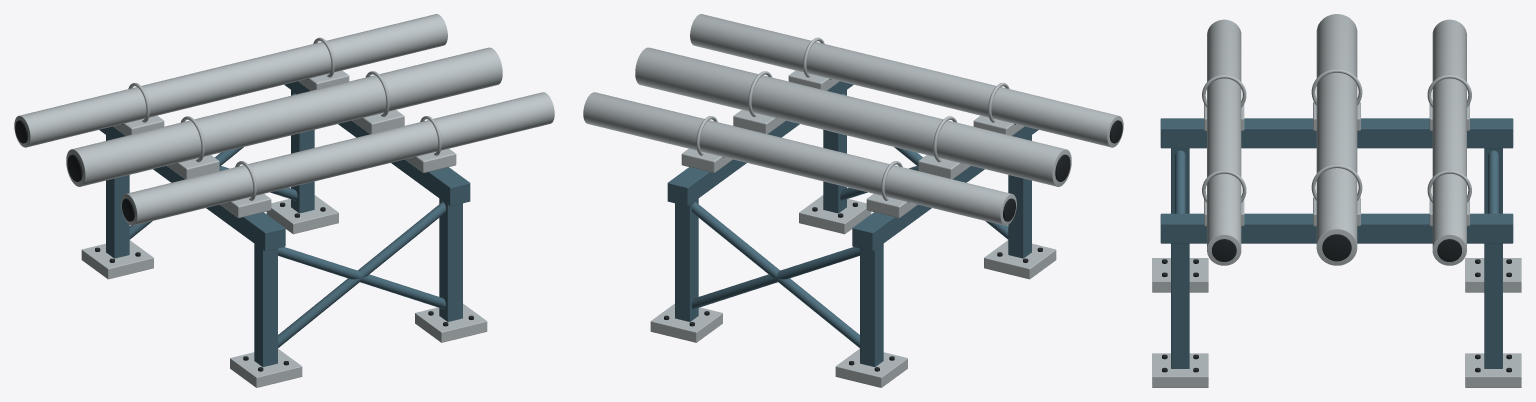
File: trapeze_pipe_support.glb
3 views of the same model, side by side, from view 1: azimuth 30°, elevation 25°; view 2: azimuth 150°, elevation 25°; view 3: azimuth 270°, elevation 25° (orthographic). The views are drawn at different scales.
Visible parts, largest first — view 1: PROCESS_pipe_1, PROCESS_pipe_0, PROCESS_pipe_2, RACK_leg_-0.72_-1.0, RACK_leg_0.72_-1.0, RACK_brace_a_-1.0, TRAPEZE_crossbar_0.72, TRAPEZE_crossbar_-0.72, RACK_brace_b_-1.0, RACK_leg_-0.72_1.0, RACK_baseplate_-0.72_1.0, RACK_baseplate_0.72_-1.0 (+9 smaller); view 2: PROCESS_pipe_1, PROCESS_pipe_2, PROCESS_pipe_0, RACK_leg_-0.72_1.0, RACK_leg_0.72_1.0, RACK_brace_a_1.0, TRAPEZE_crossbar_0.72, TRAPEZE_crossbar_-0.72, RACK_brace_b_1.0, RACK_leg_-0.72_-1.0, RACK_baseplate_-0.72_-1.0, RACK_baseplate_0.72_1.0 (+9 smaller); view 3: PROCESS_pipe_1, PROCESS_pipe_0, PROCESS_pipe_2, TRAPEZE_crossbar_-0.72, TRAPEZE_crossbar_0.72, RACK_leg_0.72_1.0, RACK_leg_0.72_-1.0, RACK_baseplate_0.72_1.0, RACK_baseplate_0.72_-1.0, RACK_baseplate_-0.72_1.0, RACK_baseplate_-0.72_-1.0, RACK_brace_b_1.0 (+12 smaller).
Boxes of the visible parts, x1,y1,x2,y2 form: PROCESS_pipe_1: [66, 47, 502, 186]; PROCESS_pipe_0: [121, 92, 554, 225]; PROCESS_pipe_2: [14, 14, 447, 147]; RACK_leg_-0.72_-1.0: [254, 244, 277, 366]; RACK_leg_0.72_-1.0: [439, 198, 462, 321]; RACK_brace_a_-1.0: [278, 202, 445, 347]; TRAPEZE_crossbar_0.72: [284, 81, 470, 206]; TRAPEZE_crossbar_-0.72: [99, 126, 285, 251]; RACK_brace_b_-1.0: [278, 247, 445, 309]; RACK_leg_-0.72_1.0: [106, 135, 129, 258]; RACK_baseplate_-0.72_1.0: [81, 240, 153, 279]; RACK_baseplate_0.72_-1.0: [415, 303, 487, 342]; PROCESS_pipe_1: [635, 47, 1071, 186]; PROCESS_pipe_2: [583, 92, 1016, 225]; PROCESS_pipe_0: [690, 14, 1123, 147]; RACK_leg_-0.72_1.0: [860, 244, 883, 366]; RACK_leg_0.72_1.0: [675, 198, 698, 321]; RACK_brace_a_1.0: [692, 202, 859, 347]; TRAPEZE_crossbar_0.72: [667, 81, 853, 206]; TRAPEZE_crossbar_-0.72: [852, 126, 1038, 251]; RACK_brace_b_1.0: [692, 247, 859, 309]; RACK_leg_-0.72_-1.0: [1008, 135, 1031, 258]; RACK_baseplate_-0.72_-1.0: [984, 240, 1056, 279]; RACK_baseplate_0.72_1.0: [650, 303, 722, 342]; PROCESS_pipe_1: [1316, 14, 1357, 265]; PROCESS_pipe_0: [1207, 19, 1241, 265]; PROCESS_pipe_2: [1432, 19, 1466, 265]; TRAPEZE_crossbar_-0.72: [1160, 118, 1513, 148]; TRAPEZE_crossbar_0.72: [1160, 213, 1513, 243]; RACK_leg_0.72_1.0: [1484, 243, 1502, 368]; RACK_leg_0.72_-1.0: [1171, 243, 1189, 368]; RACK_baseplate_0.72_1.0: [1465, 353, 1521, 387]; RACK_baseplate_0.72_-1.0: [1152, 353, 1208, 387]; RACK_baseplate_-0.72_1.0: [1465, 258, 1521, 292]; RACK_baseplate_-0.72_-1.0: [1152, 258, 1208, 292]; RACK_brace_b_1.0: [1488, 150, 1498, 213].
Bounding box in the file's own units: 3.27 × 1.49 × 2.36.
